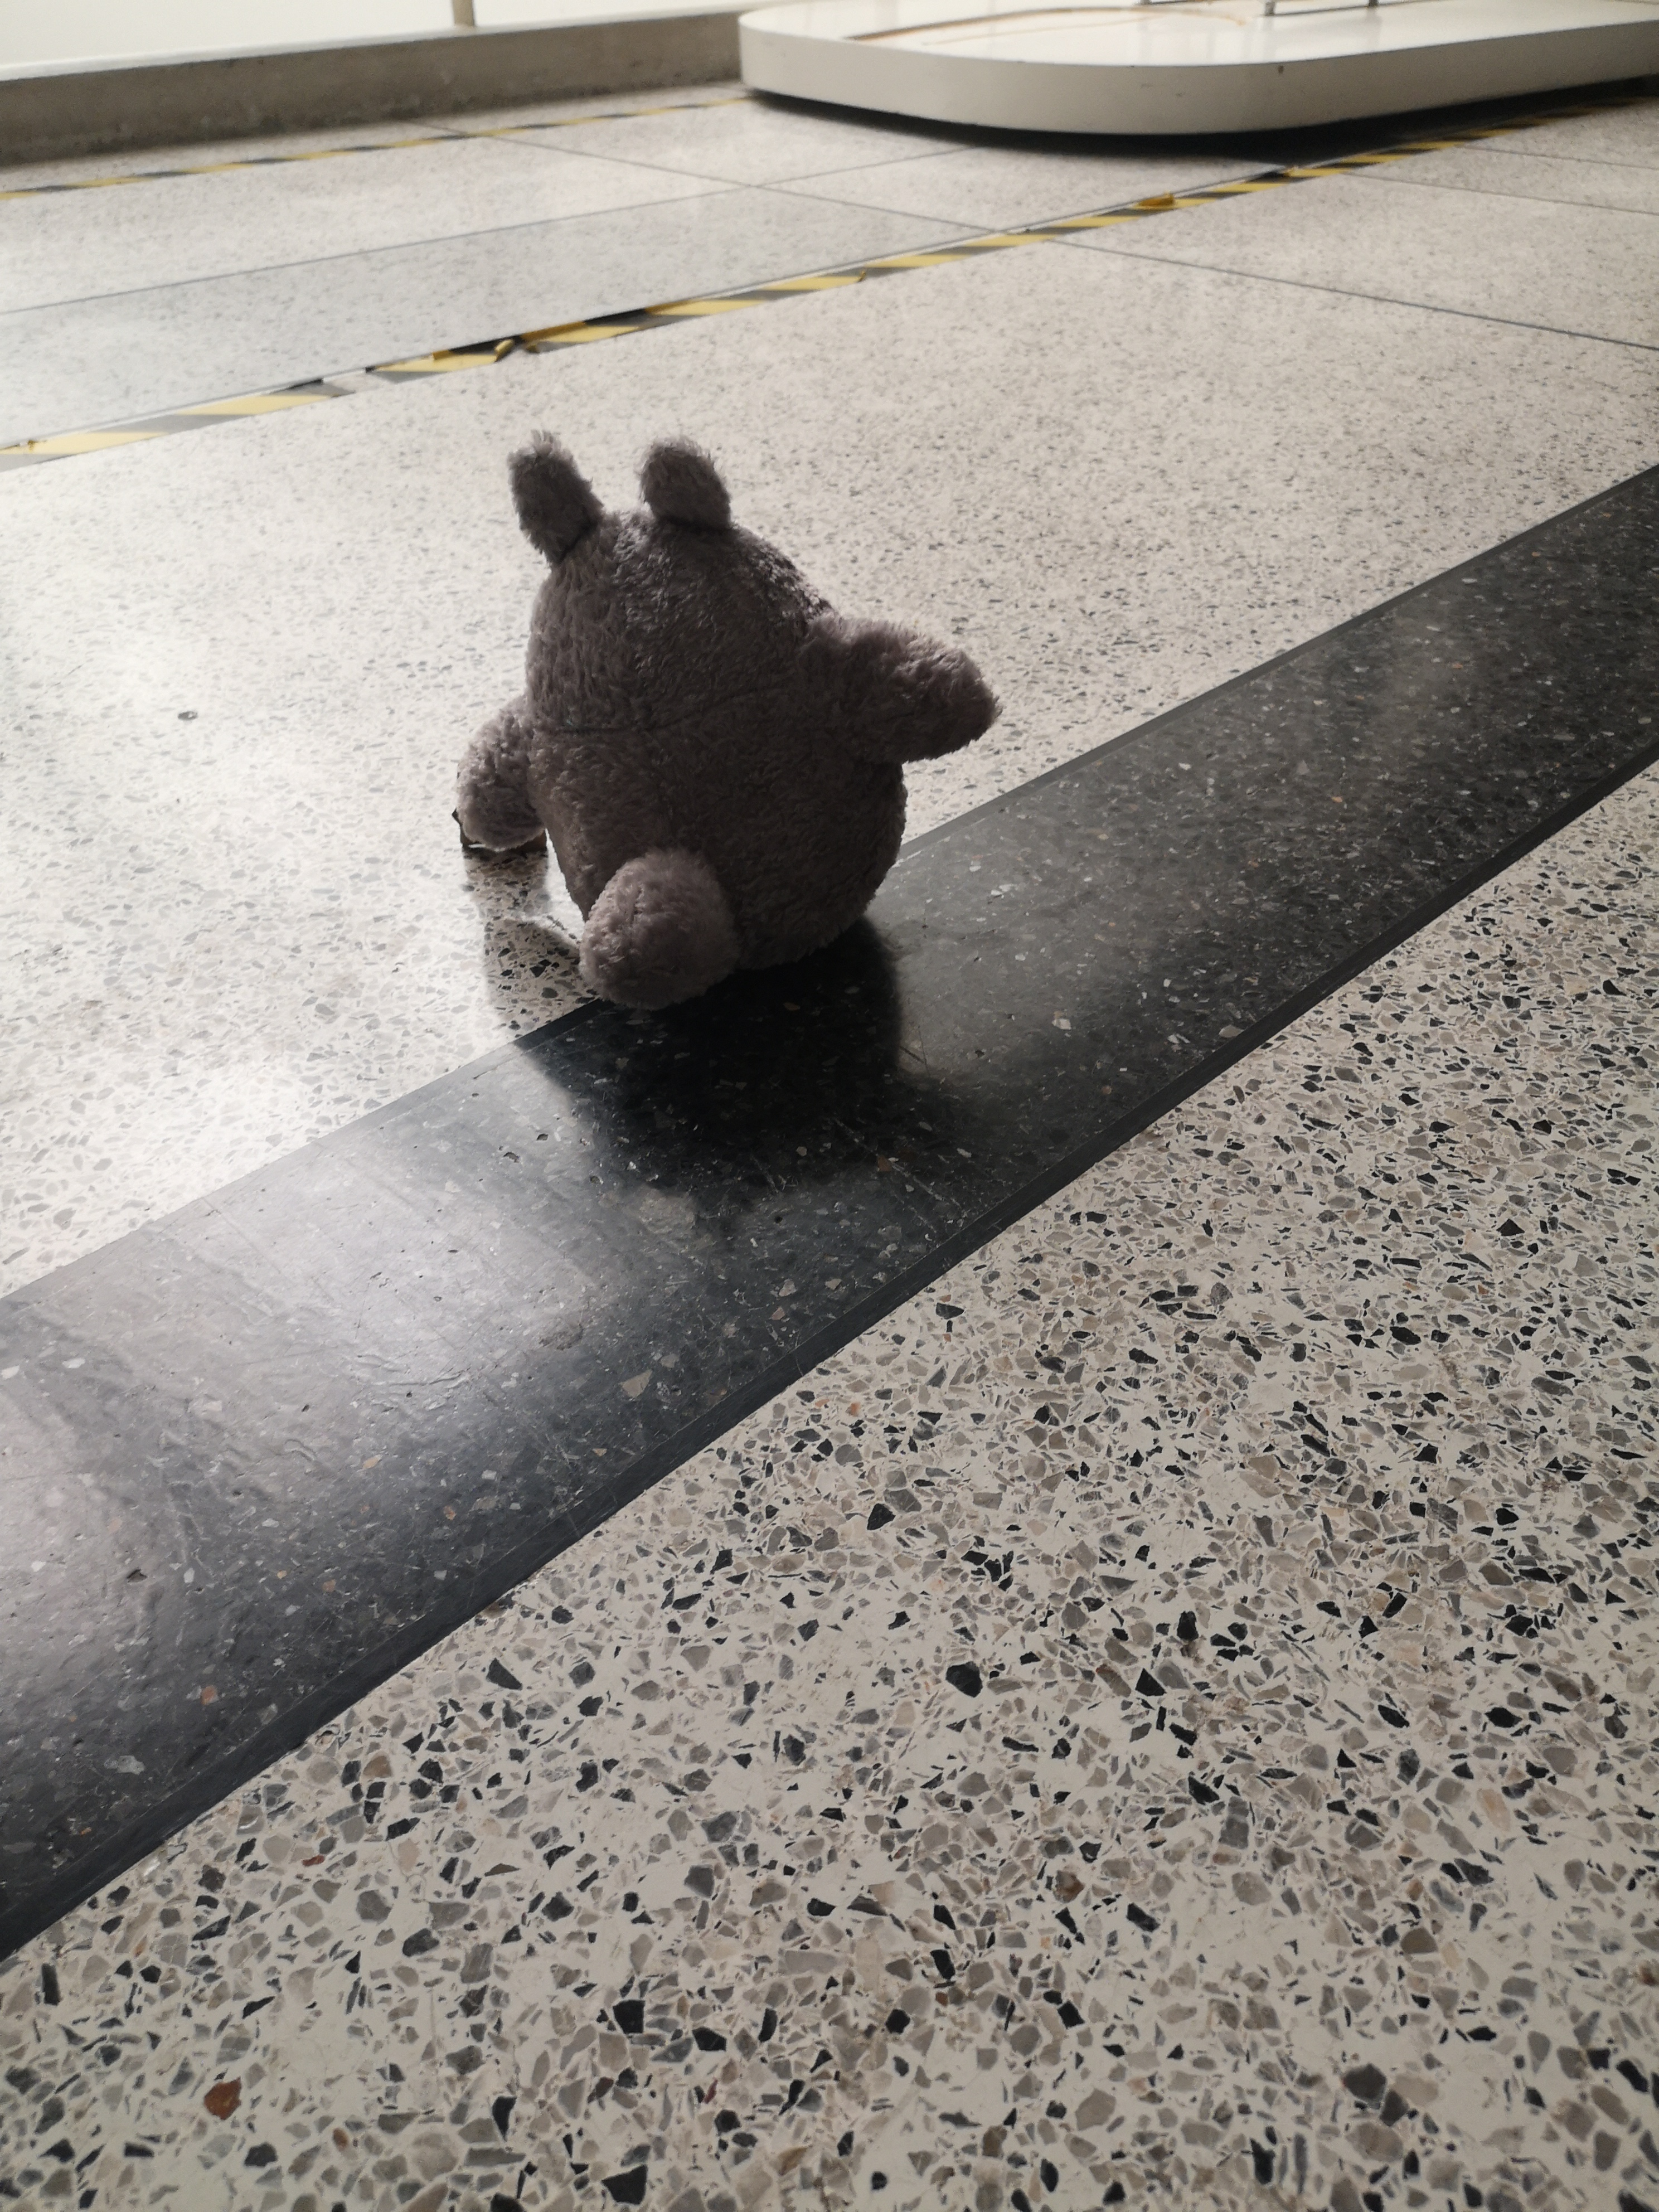totoro: (450, 416, 1011, 1038)
